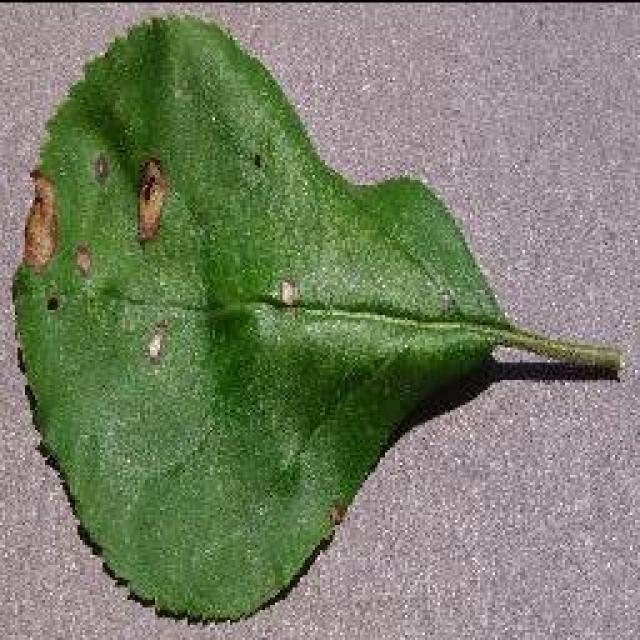Black_rot: (10, 10, 622, 625)
